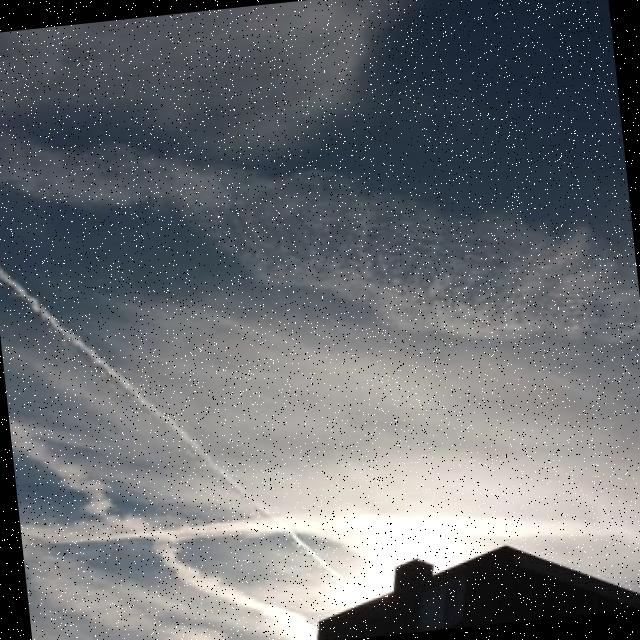Ct: (1, 41, 640, 564)
